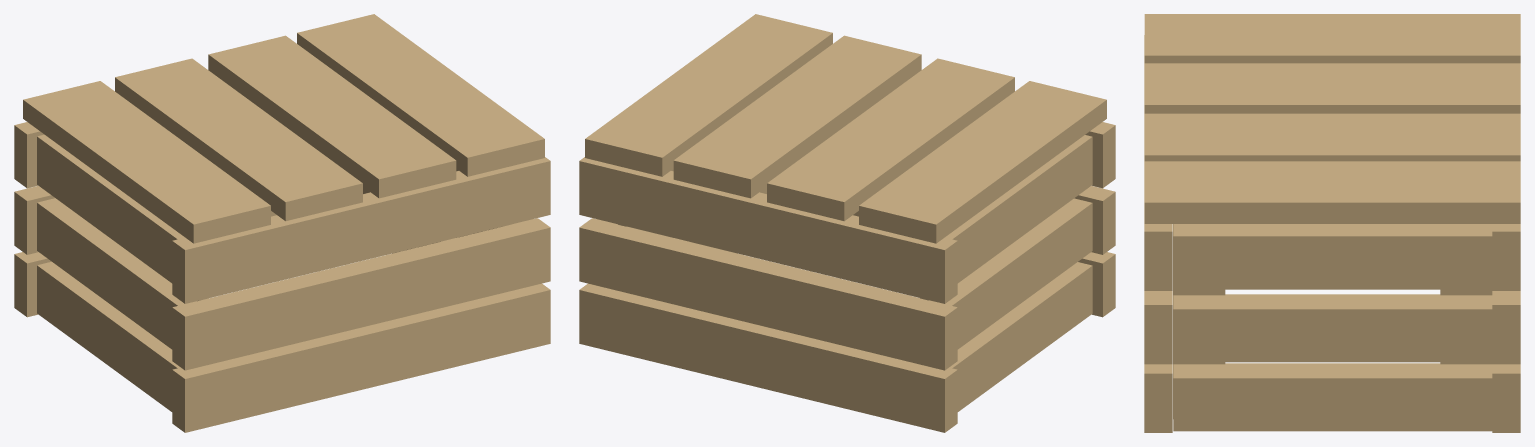
Rendered from Huacal_asiento.fbx.
3 renders of one model, left to right at view 1: azimuth 30°, elevation 25°; view 2: azimuth 150°, elevation 25°; view 3: azimuth 270°, elevation 25°, orthographic. The views are drawn at different scales.
Visible parts, largest first — view 1: Cube.087; view 2: Cube.087; view 3: Cube.087.
Boxes of the visible parts, bbox=[...] form: Cube.087: bbox=[14, 14, 550, 432]; Cube.087: bbox=[579, 14, 1115, 432]; Cube.087: bbox=[1144, 14, 1520, 432].
Size of the model in its own units: 2186 by 1767 by 1179.
